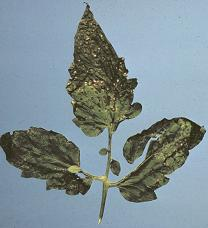Tomato Septoria leaf spot: (64, 5, 148, 140), (112, 116, 203, 208), (1, 122, 98, 201)
